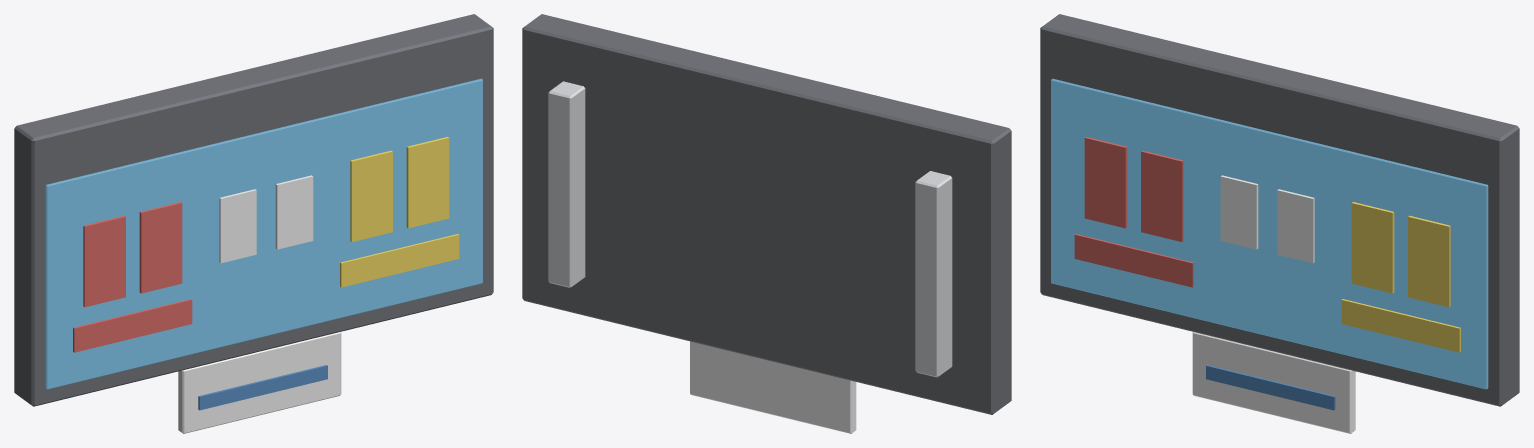
Rendered from community-sports-hall-and-changing-rooms-hall-scoreboa-1aac26ec.glb.
3 views of the same model, side by side, from view 1: azimuth 30°, elevation 25°; view 2: azimuth 150°, elevation 25°; view 3: azimuth 330°, elevation 25° (orthographic). The views are drawn at different scales.
Visible parts, largest first — view 1: hall-scoreboard, score-flap/white, score-flap/blue; view 2: hall-scoreboard, score-flap/white; view 3: hall-scoreboard, score-flap/white, score-flap/blue.
Part boxes in pixels (bbox=[...]): hall-scoreboard: bbox=[14, 14, 493, 406]; score-flap/white: bbox=[178, 332, 341, 433]; score-flap/blue: bbox=[198, 365, 327, 410]; hall-scoreboard: bbox=[522, 14, 1011, 414]; score-flap/white: bbox=[690, 341, 856, 433]; hall-scoreboard: bbox=[1040, 14, 1519, 406]; score-flap/white: bbox=[1192, 332, 1355, 433]; score-flap/blue: bbox=[1206, 365, 1335, 410].
Size of the model in its own units: 1.8 by 1.24 by 0.248.
